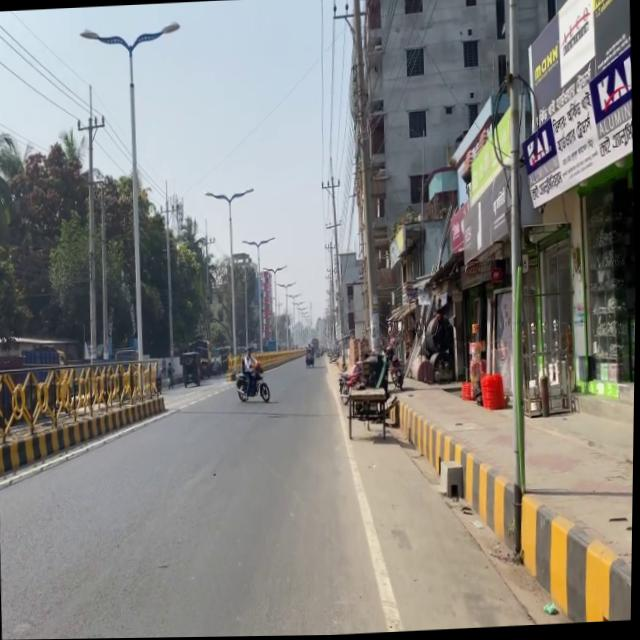Construction-barrier: (519, 490, 634, 626)
Downstairs: (179, 351, 202, 388)
Fallen-tree: (235, 367, 271, 404), (389, 357, 407, 391), (338, 370, 354, 395), (304, 346, 316, 367)
Garbage-bin: (241, 348, 262, 397), (167, 362, 176, 389)
Light-pole: (494, 0, 537, 554)
Pole: (0, 353, 173, 489)
Pothole: (399, 341, 636, 632)
Traffic-cone: (346, 387, 390, 440), (190, 338, 213, 378)
